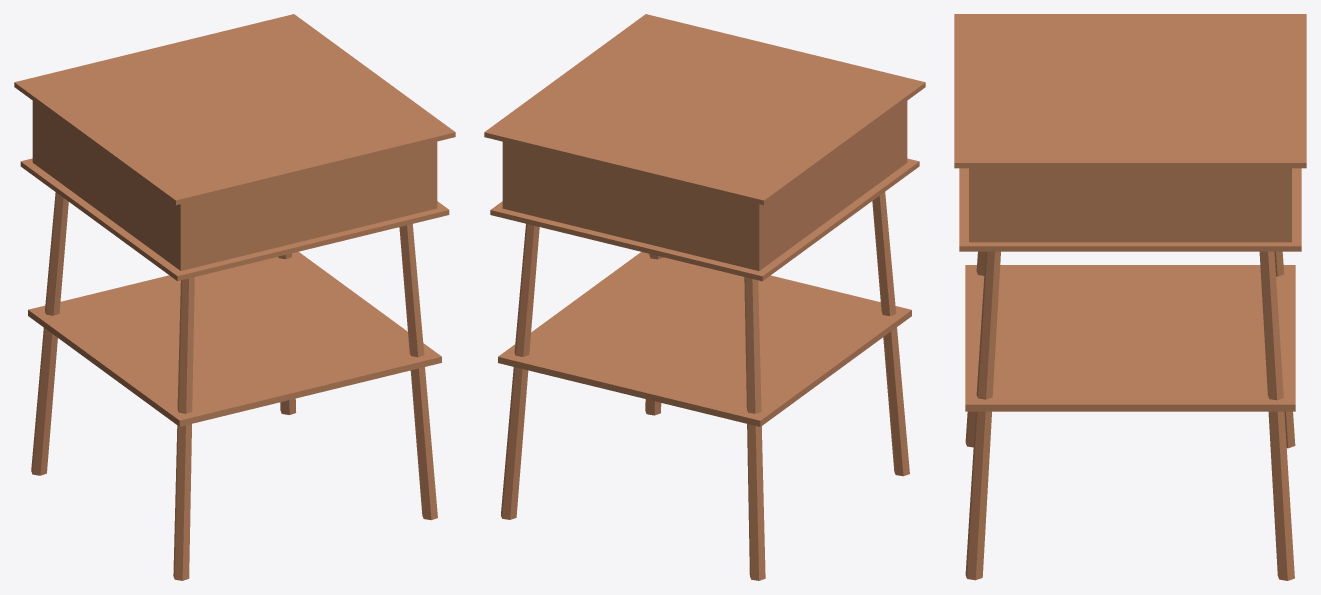
The model's file is table_single.obj.
3 views of the same model, side by side, from view 1: azimuth 30°, elevation 25°; view 2: azimuth 150°, elevation 25°; view 3: azimuth 270°, elevation 25° (orthographic). The views are drawn at different scales.
Visible parts, largest first — view 1: table_single_Cube.001; view 2: table_single_Cube.001; view 3: table_single_Cube.001.
Boxes of the visible parts, x1,y1,x2,y2 form: table_single_Cube.001: (14, 14, 455, 580); table_single_Cube.001: (484, 14, 925, 580); table_single_Cube.001: (954, 14, 1306, 580).
Bounding box in the file's own units: 1.54 × 2.04 × 1.54.
